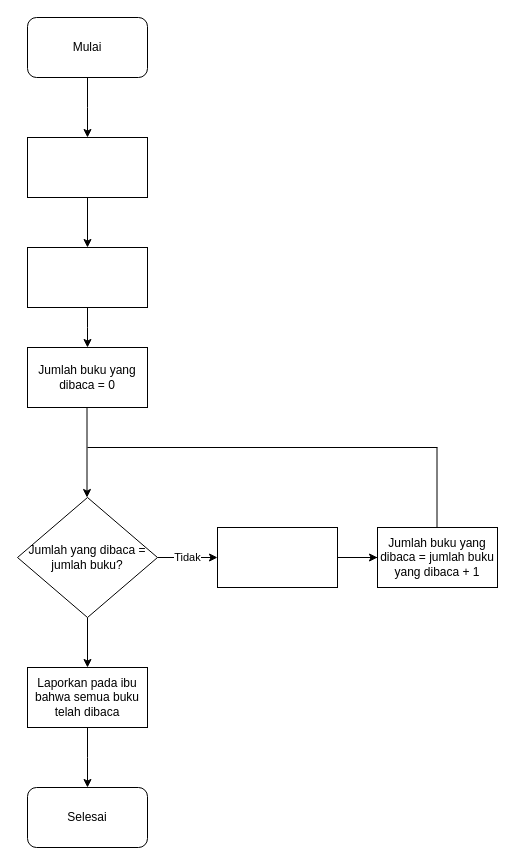
This 515x865 diagram has some shape labels left out. Each missing label, with the centre of its shape:
Baca 1 buku yang belum dibaca: [277,557]
Jumlah buku = 10: [87,167]
Perintah ibu, "Baca semua buku": [87,277]
